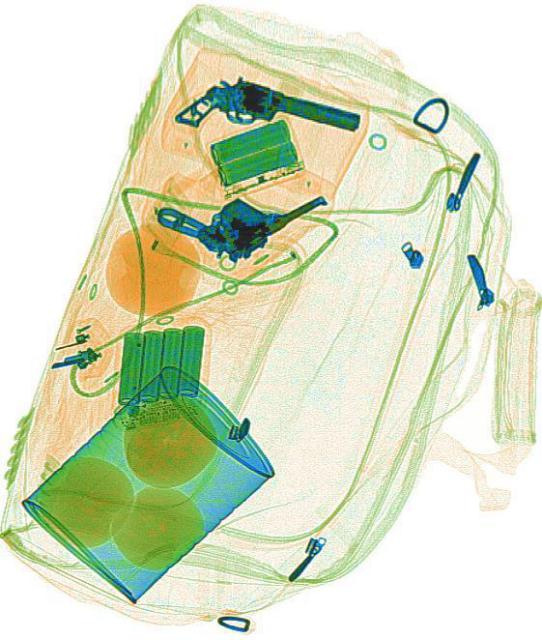Gun: (152, 127, 326, 285), (173, 61, 359, 170)
